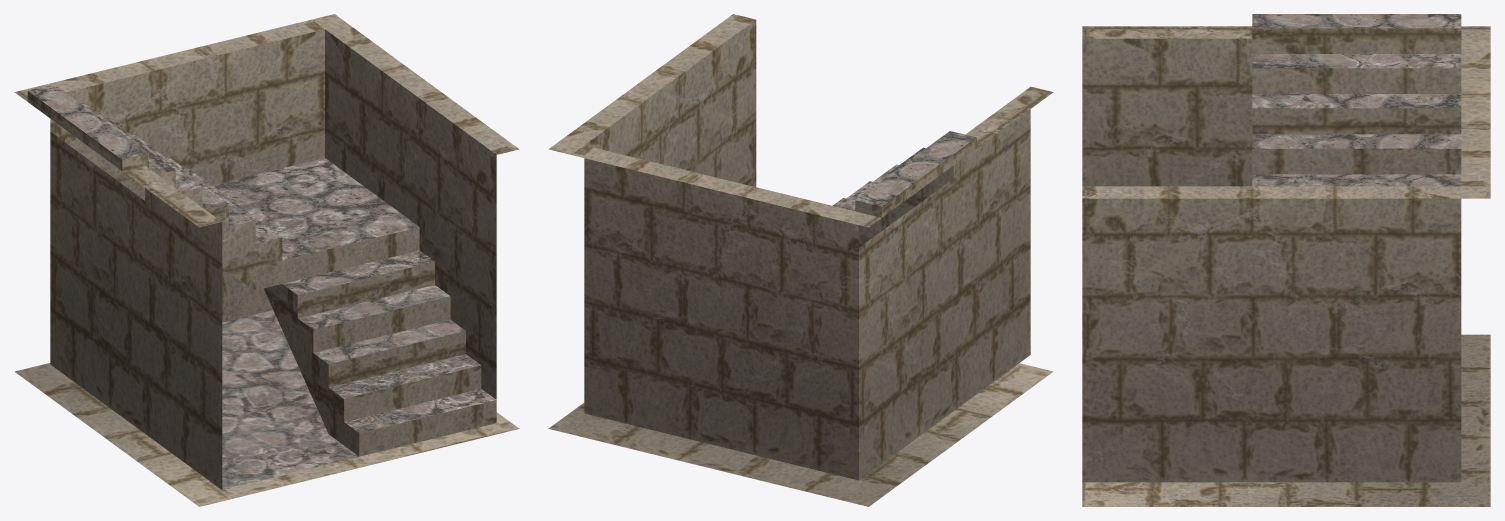
File: ModuleCurvedStairs.fbx
3 renders of one model, left to right at view 1: azimuth 30°, elevation 25°; view 2: azimuth 150°, elevation 25°; view 3: azimuth 270°, elevation 25°, orthographic. The views are drawn at different scales.
Parts seen in each view (by area): view 1: ModuleCurvedStairsWalls, ModuleCurvedStairsStepsEdge, ModuleCurvedStairsStepsTile, ModuleCurvedStairsFloorTile, ModuleCurvedStairsFloorEdge; view 2: ModuleCurvedStairsWalls, ModuleCurvedStairsFloorEdge, ModuleCurvedStairsStepsTile, ModuleCurvedStairsStepsEdge; view 3: ModuleCurvedStairsWalls, ModuleCurvedStairsStepsEdge, ModuleCurvedStairsStepsTile, ModuleCurvedStairsFloorEdge.
Boxes of the visible parts, bbox=[...] form: ModuleCurvedStairsWalls: bbox=[14, 14, 519, 489]; ModuleCurvedStairsStepsEdge: bbox=[27, 91, 496, 456]; ModuleCurvedStairsStepsTile: bbox=[28, 84, 496, 433]; ModuleCurvedStairsFloorTile: bbox=[222, 310, 358, 489]; ModuleCurvedStairsFloorEdge: bbox=[14, 363, 519, 506]; ModuleCurvedStairsWalls: bbox=[548, 14, 1053, 480]; ModuleCurvedStairsFloorEdge: bbox=[548, 363, 1053, 506]; ModuleCurvedStairsStepsTile: bbox=[832, 131, 976, 211]; ModuleCurvedStairsStepsEdge: bbox=[855, 137, 976, 247]; ModuleCurvedStairsWalls: bbox=[1082, 26, 1490, 482]; ModuleCurvedStairsStepsEdge: bbox=[1252, 28, 1461, 174]; ModuleCurvedStairsStepsTile: bbox=[1252, 14, 1461, 186]; ModuleCurvedStairsFloorEdge: bbox=[1082, 334, 1490, 506].
Size of the model in its own units: 300 by 260 by 300.
